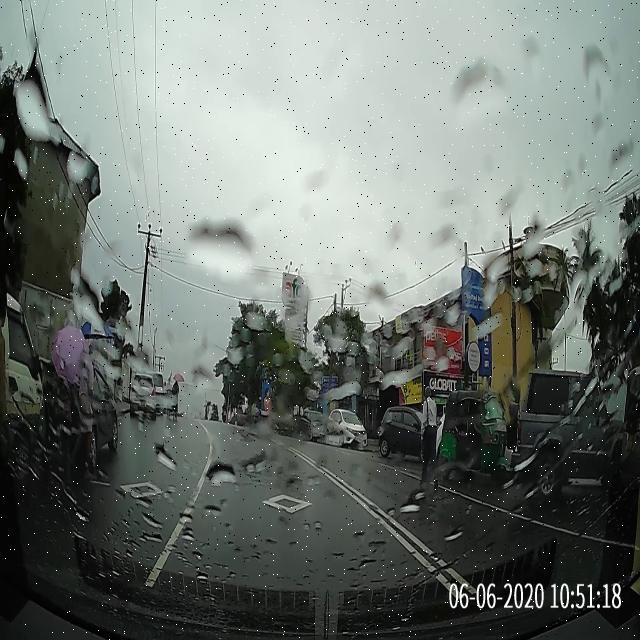diamond: (156, 473, 400, 541)
